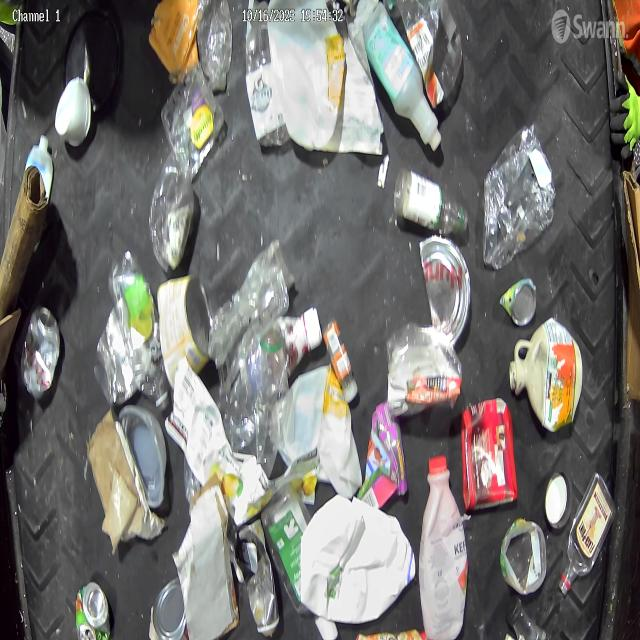can: (156, 274, 214, 397), (20, 288, 64, 419), (145, 576, 193, 640), (70, 575, 107, 640)
milk_jug: (180, 322, 292, 533), (299, 494, 419, 628), (265, 0, 350, 175), (277, 363, 368, 507)
non_white_jug: (510, 310, 587, 451), (459, 387, 516, 515)
plastic_bottle: (213, 244, 296, 376), (192, 0, 235, 99)
